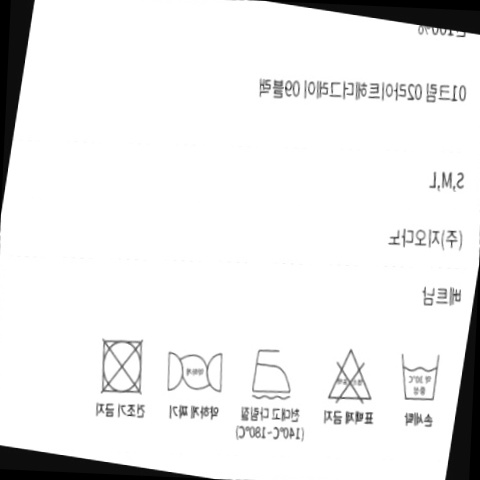30C: (385, 340, 451, 409)
DN_tumble_dry: (84, 325, 159, 405)
iron: (153, 336, 235, 403), (237, 333, 306, 409)
non_chlorine_bleach: (311, 335, 384, 413)
